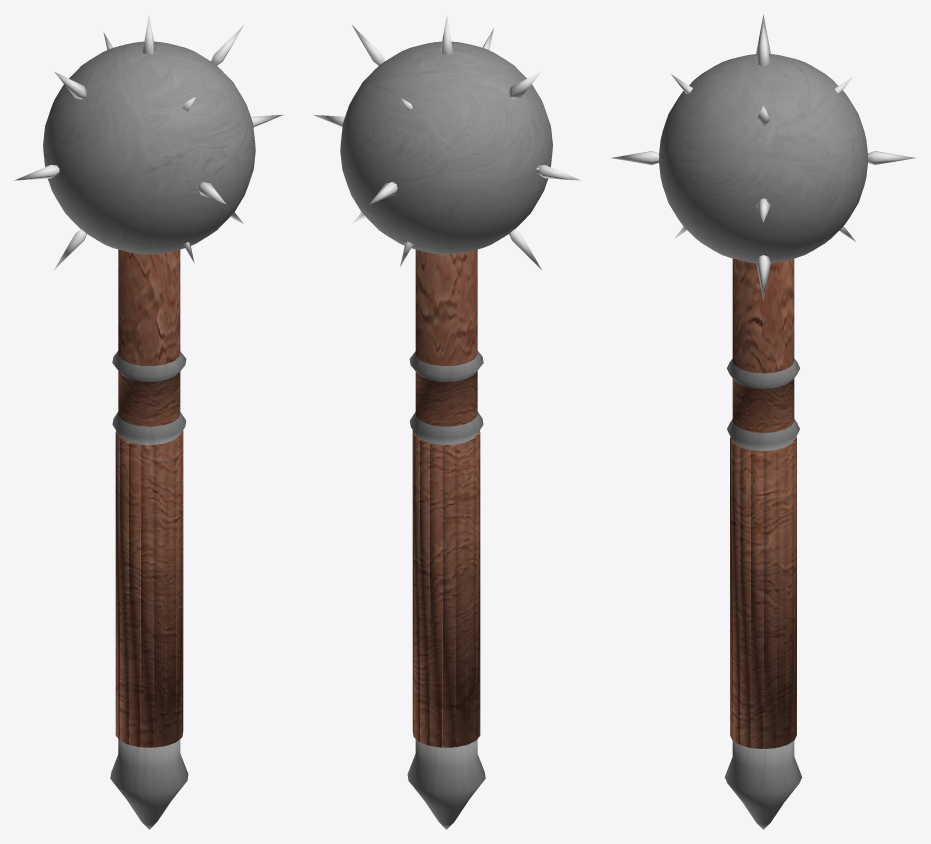
File: KnotsMiddleAges.fbx
The picture shows the model from 3 angles, left to right: view 1: azimuth 30°, elevation 25°; view 2: azimuth 150°, elevation 25°; view 3: azimuth 270°, elevation 25°; orthographic projection.
Parts seen in each view (by area): view 1: Cylinder; view 2: Cylinder; view 3: Cylinder.
Boxes of the visible parts, left/top/right/bottom form: Cylinder: left=14, top=15, right=283, bottom=829; Cylinder: left=312, top=15, right=581, bottom=829; Cylinder: left=611, top=14, right=915, bottom=829.
Size of the model in its own units: 498 by 1441 by 498.
Materials: 3 (2 with a texture image).
